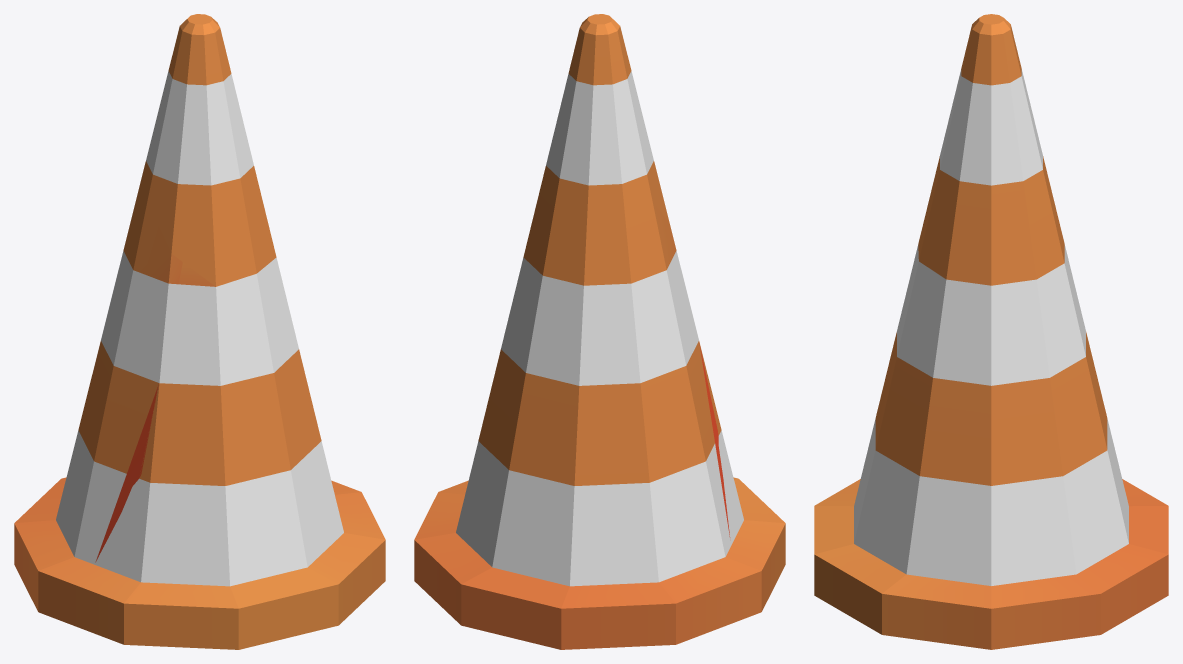
Rendered from tru_canh_bao_break.fbx.
The picture shows the model from 3 angles, left to right: view 1: azimuth 30°, elevation 25°; view 2: azimuth 150°, elevation 25°; view 3: azimuth 270°, elevation 25°; orthographic projection.
Parts seen in each view (by area): view 1: shard1, shard4, shard2, shard3, shard5; view 2: shard4, shard3, shard2, shard1; view 3: shard1, shard3, shard5, shard2, shard4.
Part boxes in pixels (left/top/right/bottom): shard1: left=55, top=414, right=385, bottom=649; shard4: left=14, top=156, right=182, bottom=618; shard2: left=147, top=14, right=267, bottom=286; shard3: left=141, top=223, right=286, bottom=473; shard5: left=176, top=297, right=315, bottom=418; shard4: left=460, top=155, right=770, bottom=649; shard3: left=415, top=156, right=717, bottom=626; shard2: left=548, top=14, right=669, bottom=222; shard1: left=414, top=403, right=785, bottom=601; shard1: left=814, top=356, right=1114, bottom=649; shard3: left=905, top=167, right=1168, bottom=626; shard5: left=887, top=289, right=1056, bottom=525; shard2: left=918, top=14, right=1037, bottom=260; shard4: left=1025, top=136, right=1168, bottom=559.
Bounding box in the file's own units: 91.62 × 150 × 87.13.
